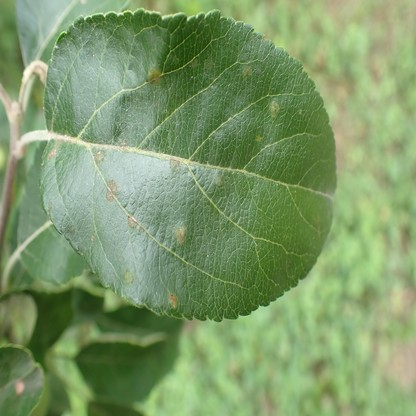frogeye_leaf_spot: (15, 382, 24, 393)
scab: (105, 180, 118, 203), (147, 68, 162, 85), (48, 140, 61, 158), (175, 224, 185, 245), (210, 172, 223, 187), (121, 270, 134, 285), (93, 149, 105, 165), (128, 213, 138, 231), (168, 293, 177, 310), (270, 101, 279, 117), (170, 157, 179, 171), (204, 57, 213, 71), (120, 138, 127, 148), (69, 225, 75, 236), (192, 57, 197, 67), (90, 234, 95, 241), (298, 108, 302, 113)
